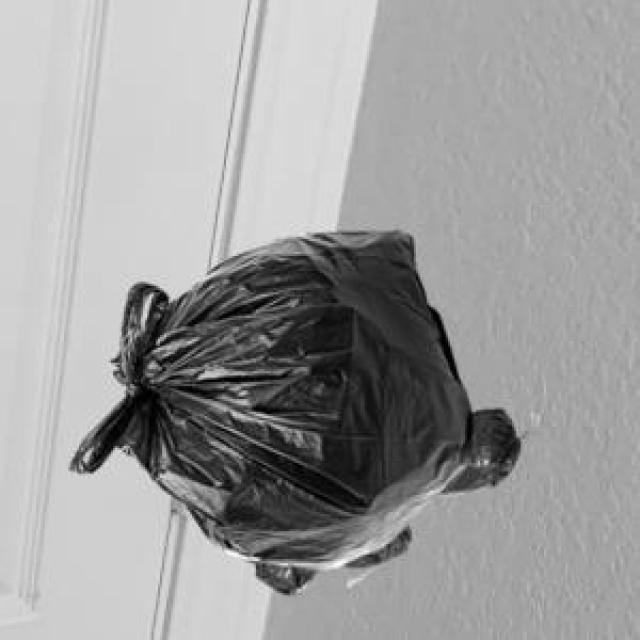miscellaneous trash: (66, 226, 469, 565), (250, 405, 516, 591)
